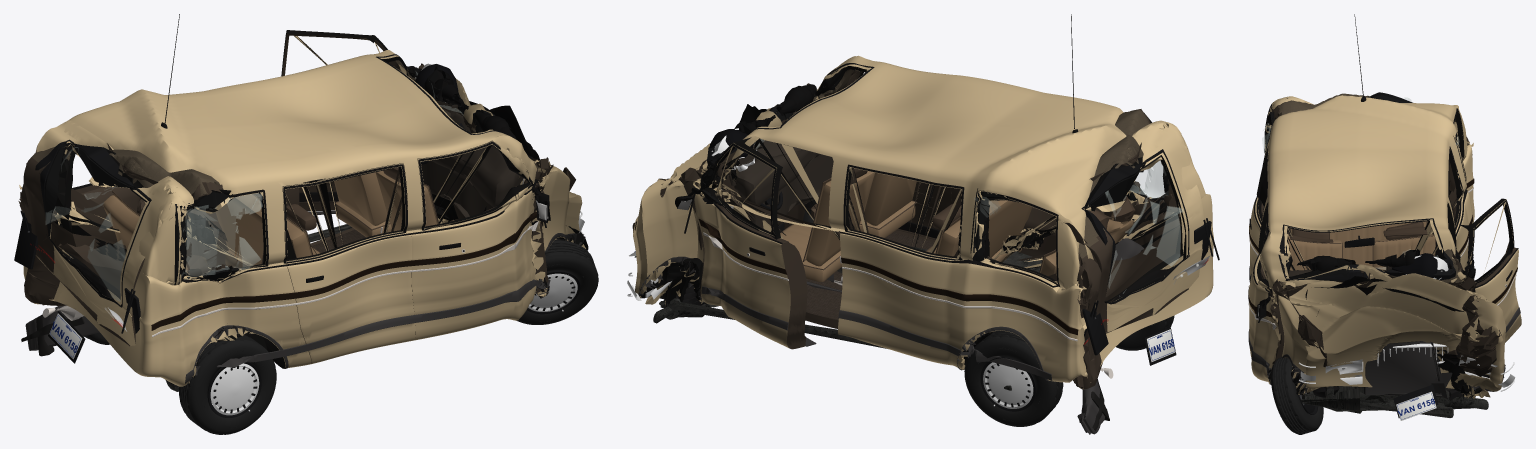
Rendered from minivan86_front_d3.glb.
The picture shows the model from 3 angles, left to right: view 1: azimuth 30°, elevation 25°; view 2: azimuth 150°, elevation 25°; view 3: azimuth 270°, elevation 25°; orthographic projection. The views are drawn at different scales.
Visible parts, largest first — view 1: Body, Interior, Door_FR, Door_SR, Liftgate, Wheel_RR_mesh, Glass, Trim, Glass_Liftgate, Wheel_FR_mesh, Trim_FR, Trim_SR (+5 smaller); view 2: Body, Interior, Door_FL, Liftgate, Trim, Wheel_RL_mesh, Glass_Liftgate, Trim_FL, Glass, Ends, Underbody, Bumper_R (+3 smaller); view 3: Body, Hood, Interior, Engine, Underbody, Door_FL, Trim, Ends, Door_FR, Wheel_FR_mesh, Glass, Trim_FR (+3 smaller).
Boxes of the visible parts, <box> form: Body: <box>18,50,588,386</box>; Interior: <box>103,63,523,275</box>; Door_FR: <box>411,141,536,340</box>; Door_SR: <box>282,163,415,363</box>; Liftgate: <box>23,121,187,346</box>; Wheel_RR_mesh: <box>179,335,276,434</box>; Glass: <box>174,54,532,285</box>; Trim: <box>151,14,585,385</box>; Glass_Liftgate: <box>35,139,151,307</box>; Wheel_FR_mesh: <box>516,240,598,324</box>; Trim_FR: <box>411,141,550,322</box>; Trim_SR: <box>283,164,415,350</box>; Body: <box>632,55,1213,389</box>; Interior: <box>710,79,1135,281</box>; Door_FL: <box>694,137,807,349</box>; Liftgate: <box>1055,121,1203,333</box>; Trim: <box>638,14,1151,381</box>; Wheel_RL_mesh: <box>964,330,1063,426</box>; Glass_Liftgate: <box>1081,149,1189,304</box>; Trim_FL: <box>675,143,834,346</box>; Glass: <box>707,63,1168,264</box>; Ends: <box>627,218,1219,365</box>; Underbody: <box>653,246,1161,390</box>; Bumper_R: <box>1077,238,1143,434</box>; Body: <box>1254,93,1505,398</box>; Hood: <box>1279,264,1486,367</box>; Interior: <box>1287,221,1448,279</box>; Engine: <box>1364,341,1443,397</box>; Underbody: <box>1301,386,1488,417</box>; Door_FL: <box>1459,198,1521,342</box>; Trim: <box>1249,14,1505,399</box>; Ends: <box>1299,343,1515,420</box>; Door_FR: <box>1248,205,1278,381</box>; Wheel_FR_mesh: <box>1271,357,1323,434</box>; Glass: <box>1262,109,1466,281</box>; Trim_FR: <box>1248,202,1276,374</box>.
Size of the model in its own units: 3.62 by 2.57 by 2.16.
Materials: 33 (5 with a texture image).
